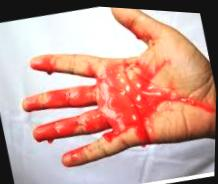Fire: (22, 56, 216, 142), (121, 18, 150, 43), (62, 144, 89, 166), (33, 55, 55, 73)
